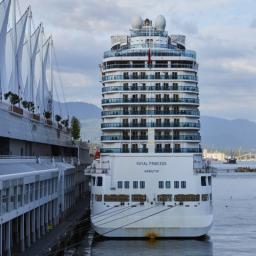cruises: (84, 14, 217, 243)
